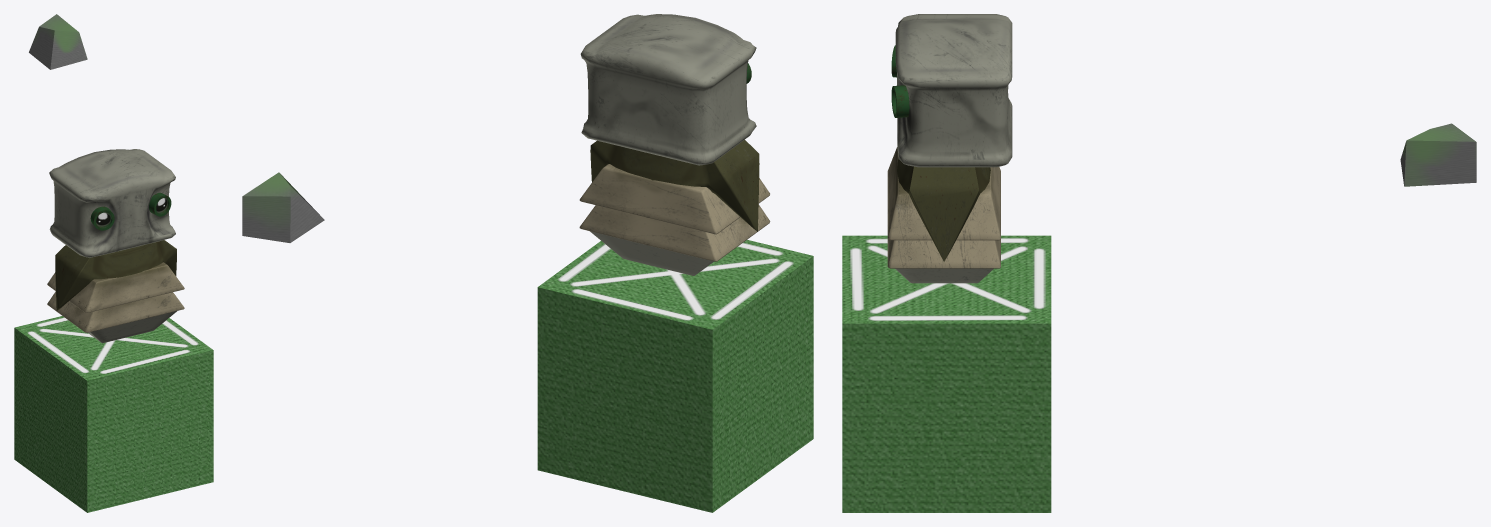
The model's file is robot.obj.
3 renders of one model, left to right at view 1: azimuth 30°, elevation 25°; view 2: azimuth 150°, elevation 25°; view 3: azimuth 270°, elevation 25°, orthographic. The views are drawn at different scales.
Visible parts, largest first — view 1: Box001, Box0010.001, Box013.001, Box014.002, Box014.003, Box003.004, Box015.001, Cylinder003.002, Cylinder002.002; view 2: Box001, Box0010.001, Box013.001, Box014.002, Box014.003, Box003.004, Box015.001; view 3: Box001, Box0010.001, Box013.001, Box003.004, Box014.002, Box014.003, Box015.001.
Boxes of the visible parts, x1=… form: Box001: x1=14, y1=316, x2=213, y2=512; Box0010.001: x1=49, y1=149, x2=175, y2=257; Box013.001: x1=55, y1=240, x2=176, y2=311; Box014.002: x1=47, y1=262, x2=184, y2=312; Box014.003: x1=47, y1=291, x2=184, y2=332; Box003.004: x1=29, y1=14, x2=87, y2=69; Box015.001: x1=88, y1=311, x2=176, y2=343; Cylinder003.002: x1=90, y1=206, x2=114, y2=230; Cylinder002.002: x1=149, y1=192, x2=171, y2=216; Box001: x1=537, y1=240, x2=813, y2=512; Box0010.001: x1=580, y1=14, x2=756, y2=165; Box013.001: x1=590, y1=140, x2=759, y2=231; Box014.002: x1=579, y1=164, x2=769, y2=234; Box014.003: x1=579, y1=204, x2=770, y2=261; Box003.004: x1=242, y1=172, x2=324, y2=242; Box015.001: x1=590, y1=231, x2=713, y2=275; Box001: x1=842, y1=235, x2=1051, y2=512; Box0010.001: x1=895, y1=14, x2=1012, y2=167; Box013.001: x1=897, y1=158, x2=990, y2=261; Box003.004: x1=1400, y1=123, x2=1476, y2=186; Box014.002: x1=887, y1=147, x2=1000, y2=240; Box014.003: x1=887, y1=238, x2=1000, y2=268; Box015.001: x1=895, y1=268, x2=993, y2=283.
Size of the model in its own units: 0.3954 by 0.5858 by 0.7714.
